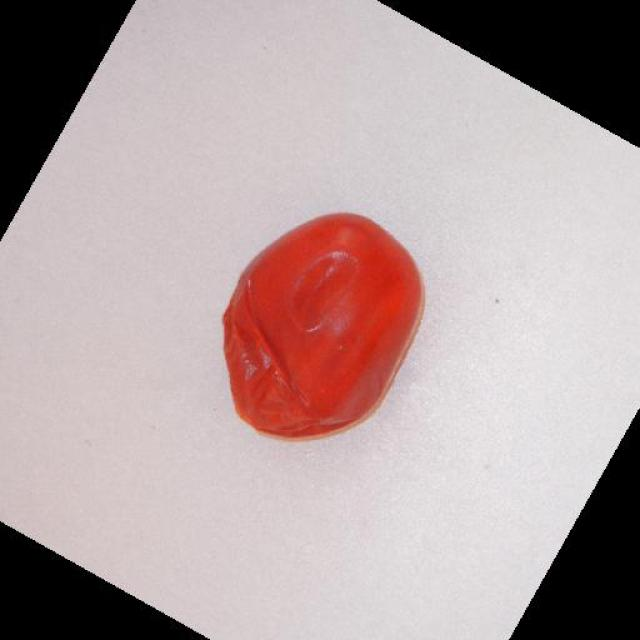Stale_tomato: (231, 195, 419, 460)
